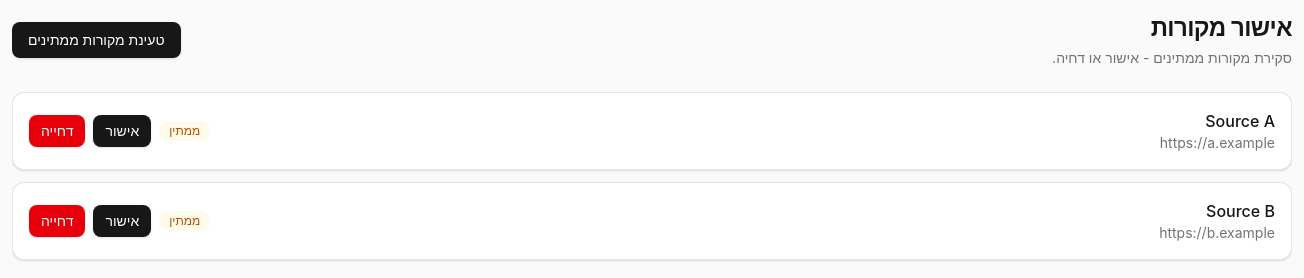
Test: AdminView - happy path › approves a source and removes it from the list
The width and height of the screenshot is (1304, 278).
Click the button "אישור" in the row of "https://a.example" at x=122, y=131, box [93,115,151,147]
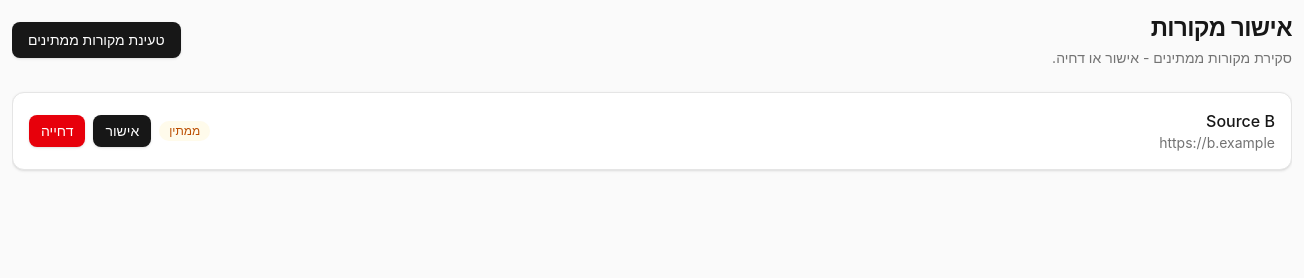
Expected: the number of list items is 1, [12,92,1292,170]
Expected: the text "Source A" is gone
